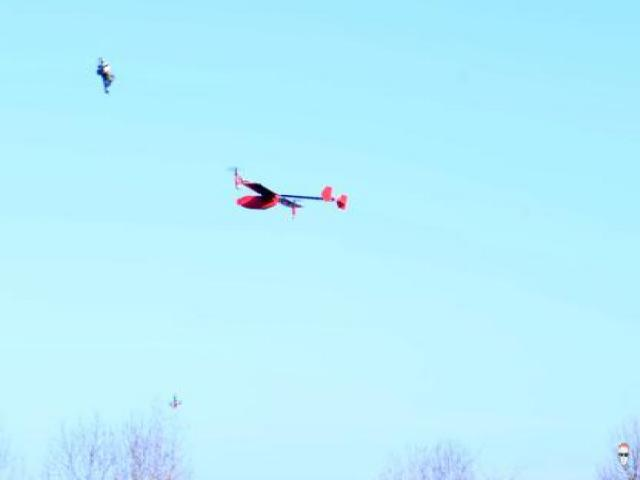uav: (225, 157, 353, 228)
